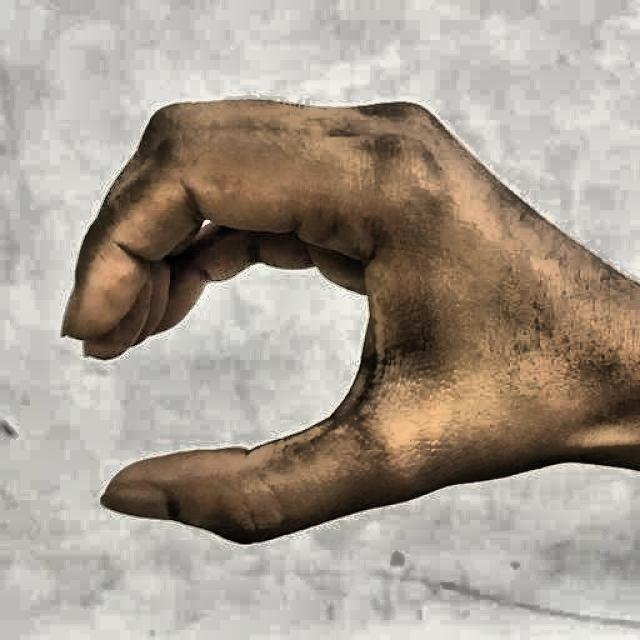Ka: (51, 66, 610, 589)
